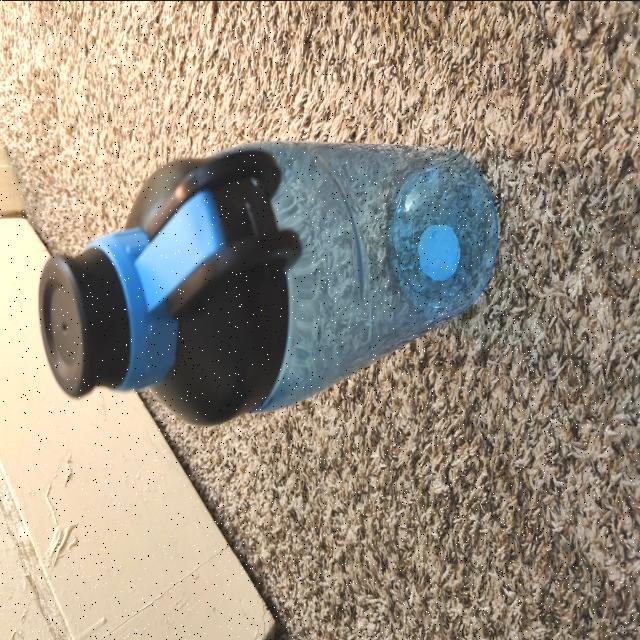bottle: (42, 168, 497, 374)
